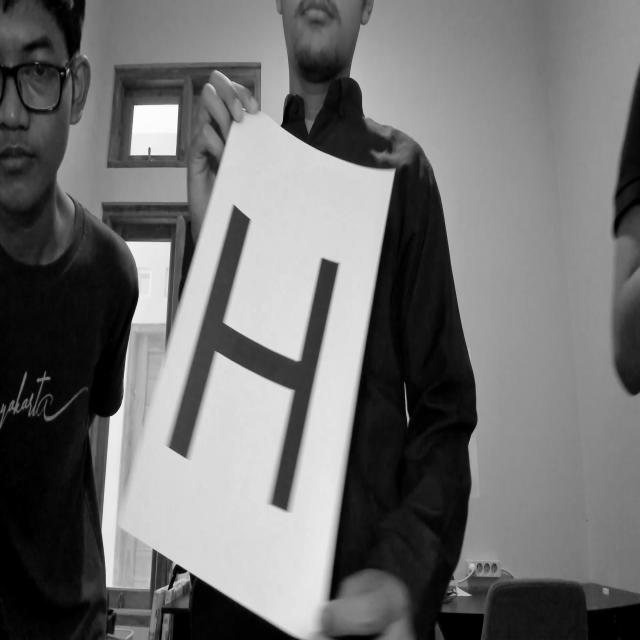h: (158, 186, 352, 528)
